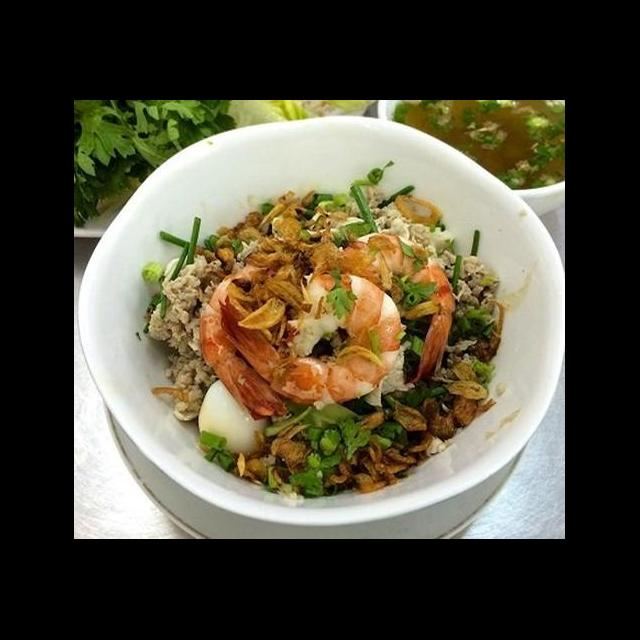thit bam: (306, 182, 504, 322), (143, 236, 260, 424)
tom: (212, 266, 406, 412), (310, 230, 460, 392), (198, 262, 330, 424)
trung: (196, 376, 270, 462)
